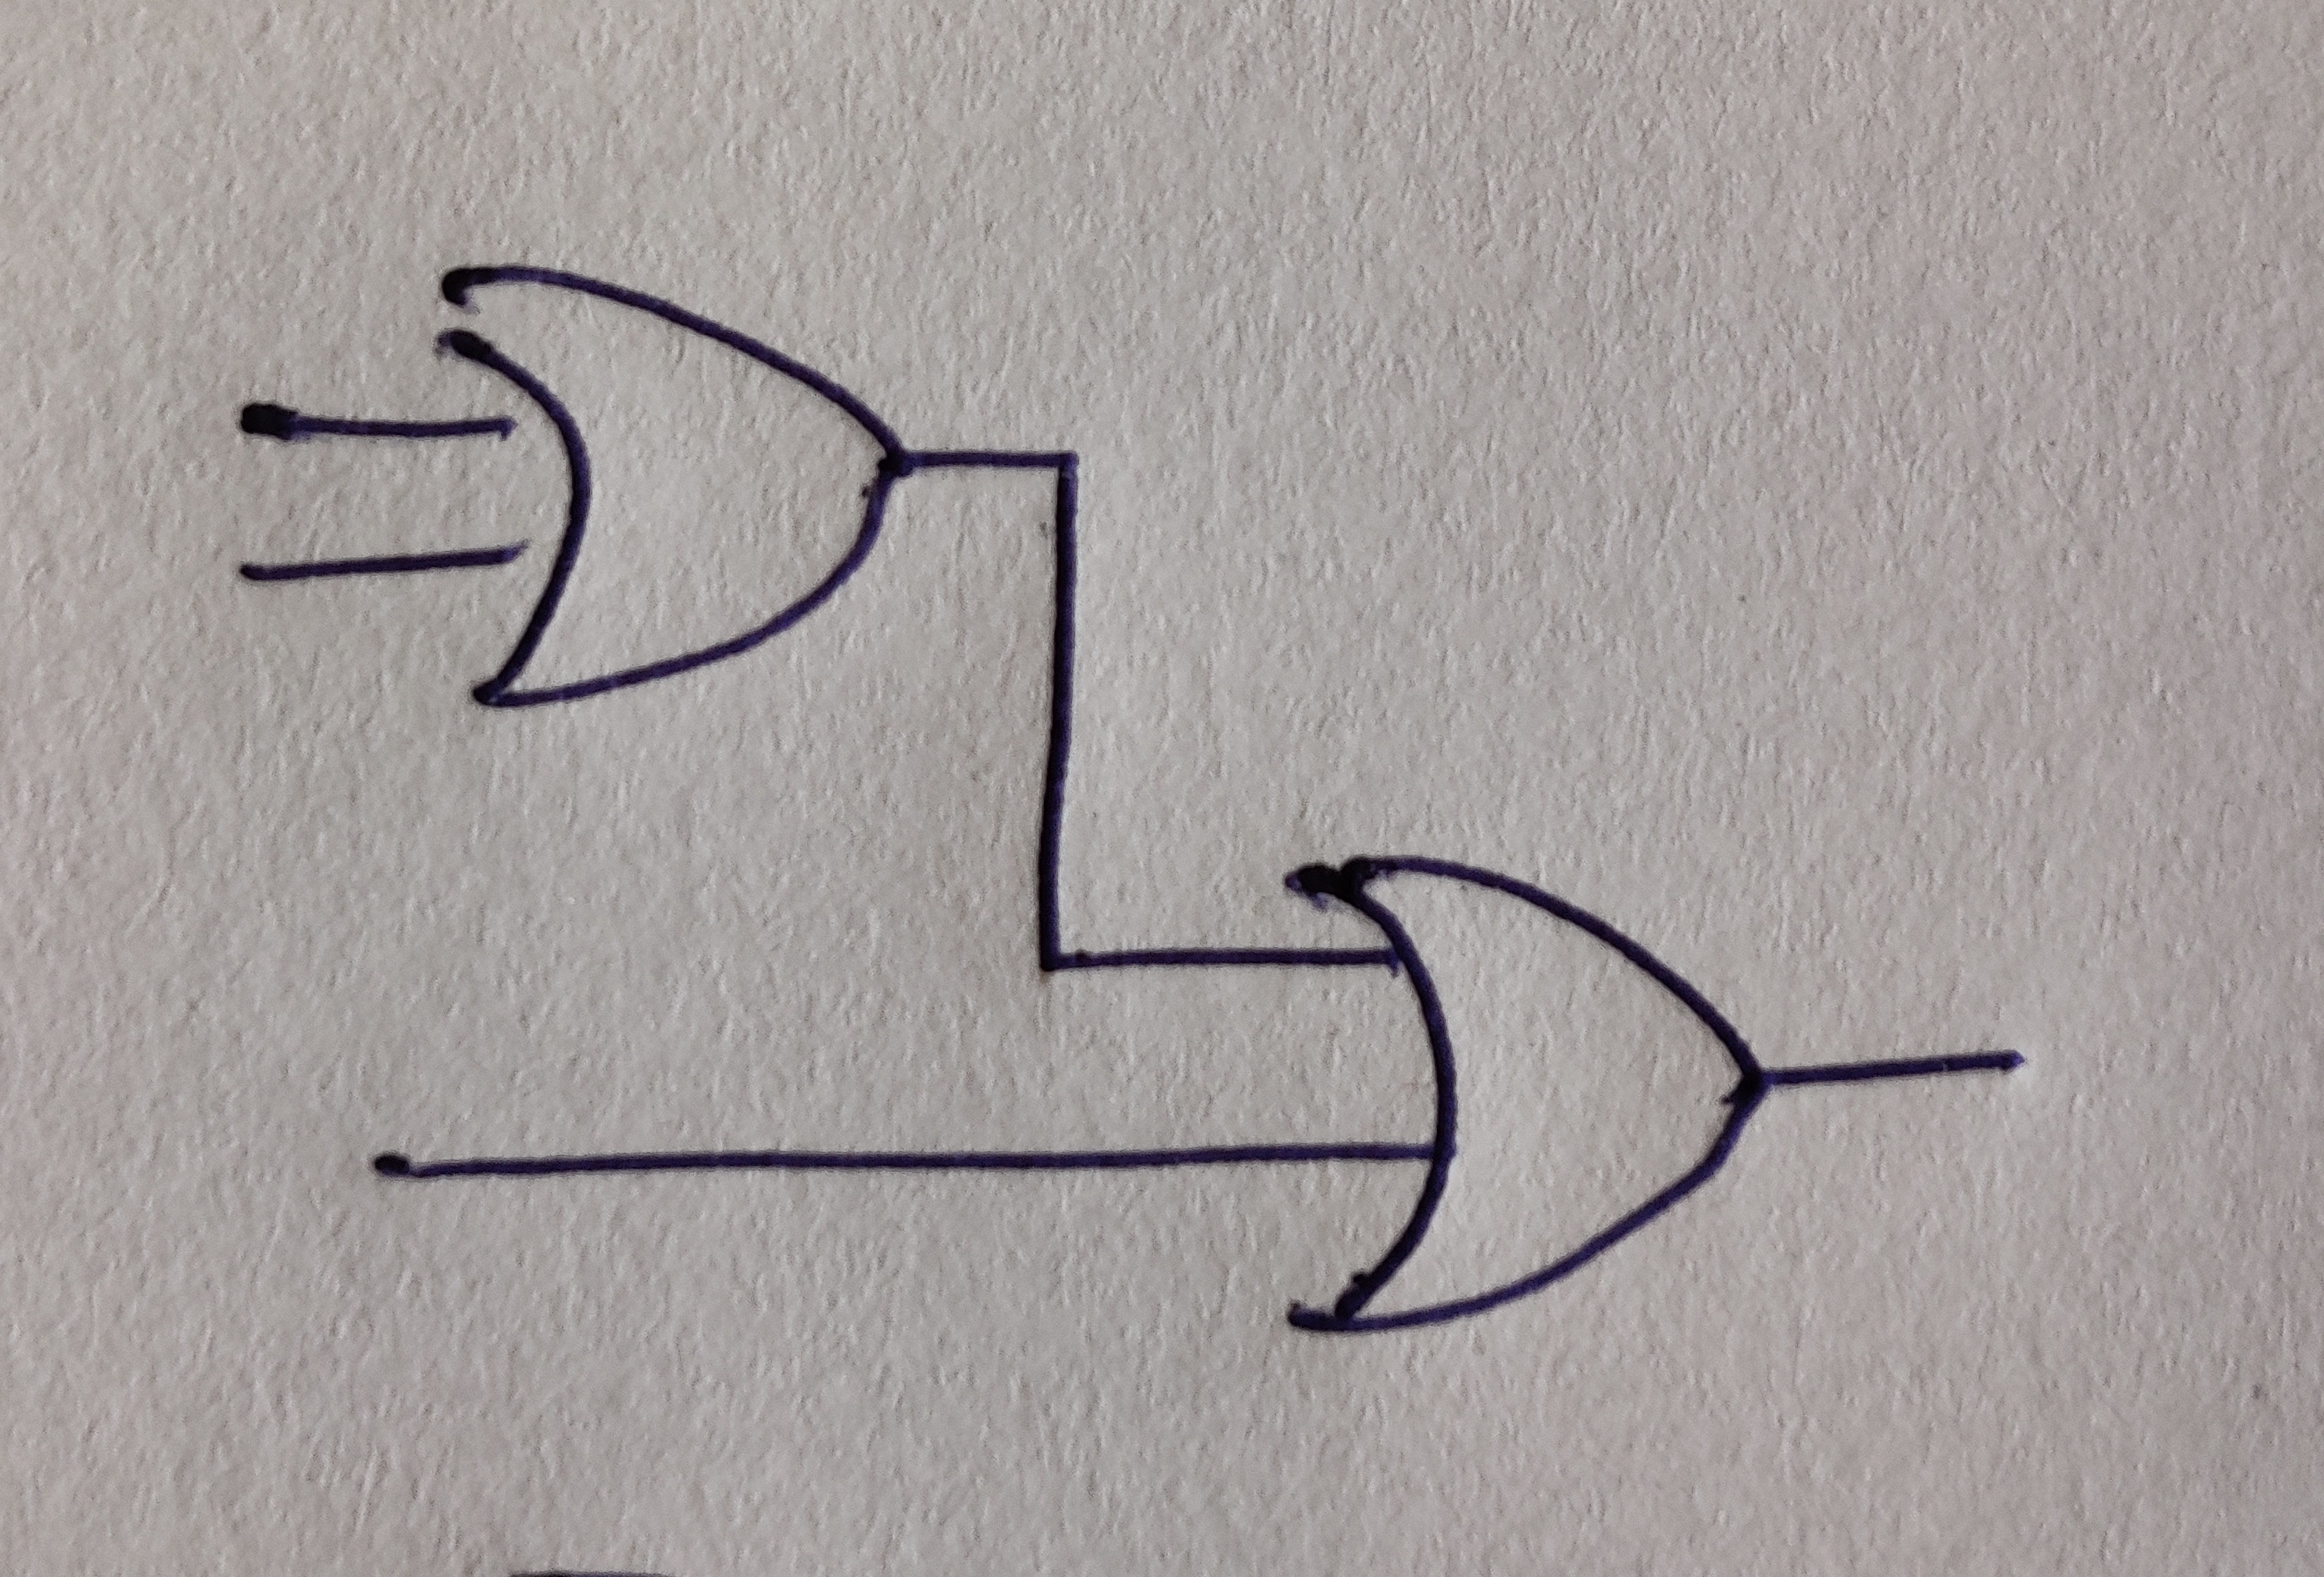or: (1284, 854, 1768, 1334), (435, 268, 910, 709)
